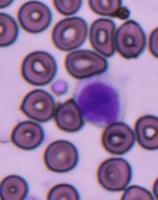L: (74, 74, 123, 127)
